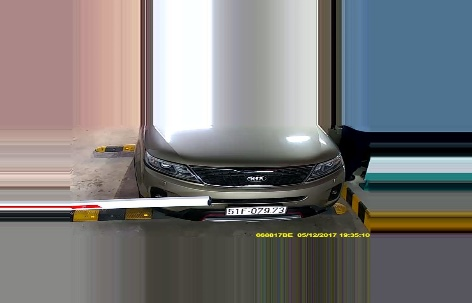plate: (222, 201, 287, 216)
